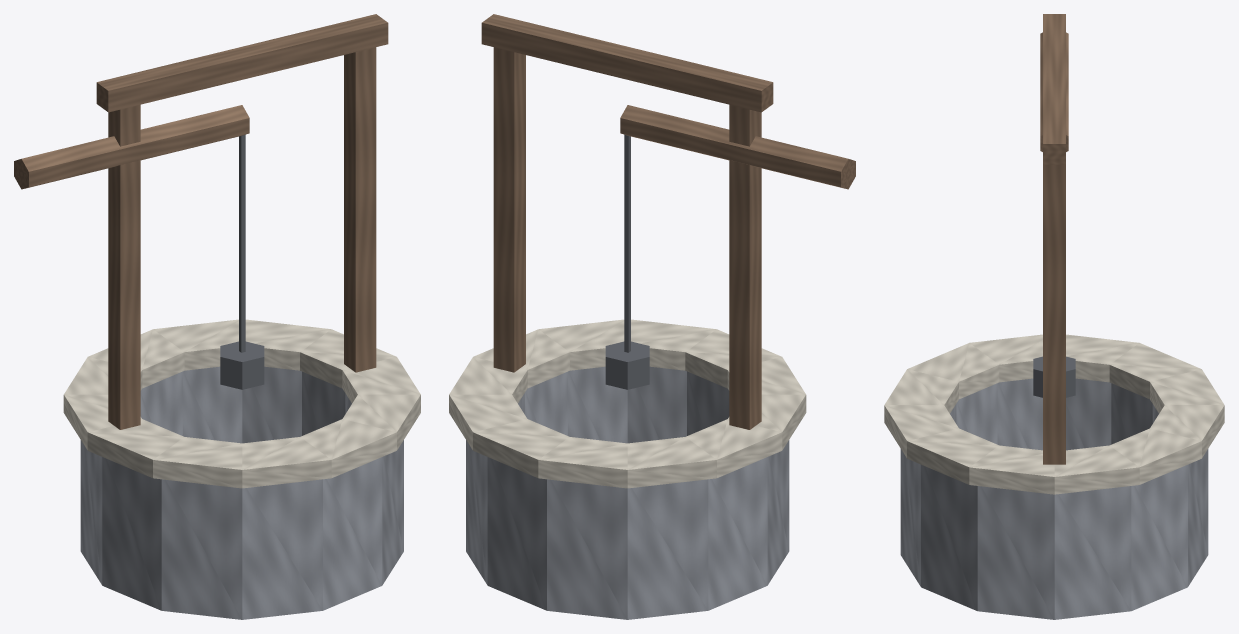
The picture shows the model from 3 angles, left to right: view 1: azimuth 30°, elevation 25°; view 2: azimuth 150°, elevation 25°; view 3: azimuth 270°, elevation 25°; orthographic projection. The views are drawn at different scales.
Visible parts, largest first — view 1: crypt-well; view 2: crypt-well; view 3: crypt-well.
Boxes of the visible parts, x1,y1,x2,y2 form: crypt-well: [14, 14, 420, 619]; crypt-well: [449, 14, 855, 619]; crypt-well: [884, 14, 1224, 619].
Bounding box in the file's own units: 2.55 × 3.24 × 2.1.
5 materials, 3 textured.
